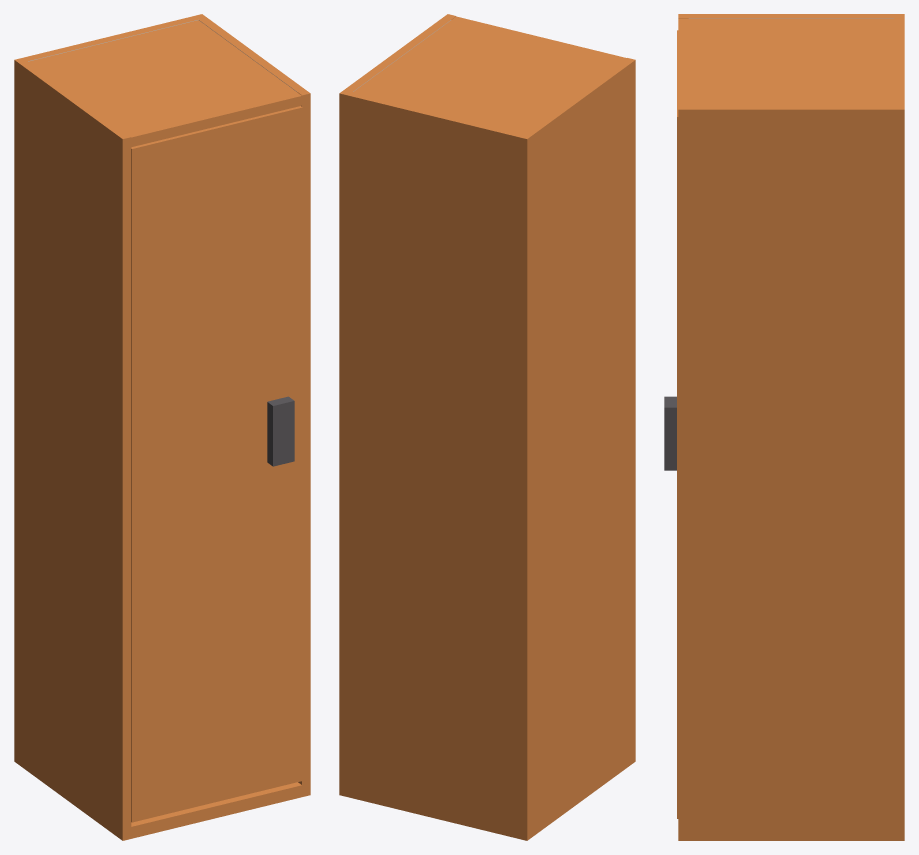
The model's file is Broom_closet_closed_wood.fbx.
The picture shows the model from 3 angles, left to right: view 1: azimuth 30°, elevation 25°; view 2: azimuth 150°, elevation 25°; view 3: azimuth 270°, elevation 25°; orthographic projection. The views are drawn at different scales.
Parts seen in each view (by area): view 1: Door.004, Closet.004, Handle.004; view 2: Closet.004; view 3: Closet.004, Door.004, Handle.004.
Boxes of the visible parts, box(x1,y1,x2,y2) form: Door.004: box(131, 106, 302, 822); Closet.004: box(14, 14, 310, 840); Handle.004: box(267, 396, 294, 466); Closet.004: box(339, 14, 635, 840); Closet.004: box(678, 14, 904, 840); Door.004: box(677, 30, 678, 818); Handle.004: box(664, 396, 676, 470).
Size of the model in its own units: 2.2 by 7.85 by 2.34.
